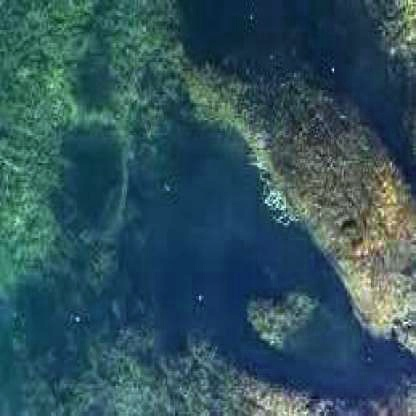tire: (233, 47, 416, 328)
